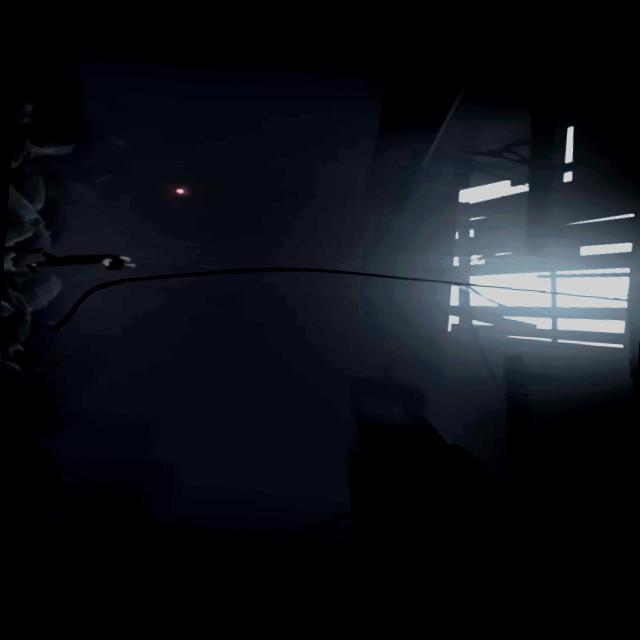boy: (30, 248, 129, 276)
